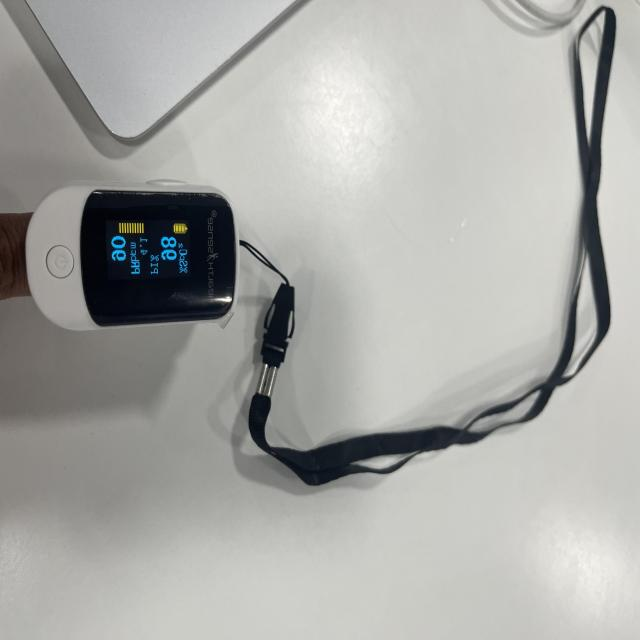spo2: (25, 185, 237, 334)
